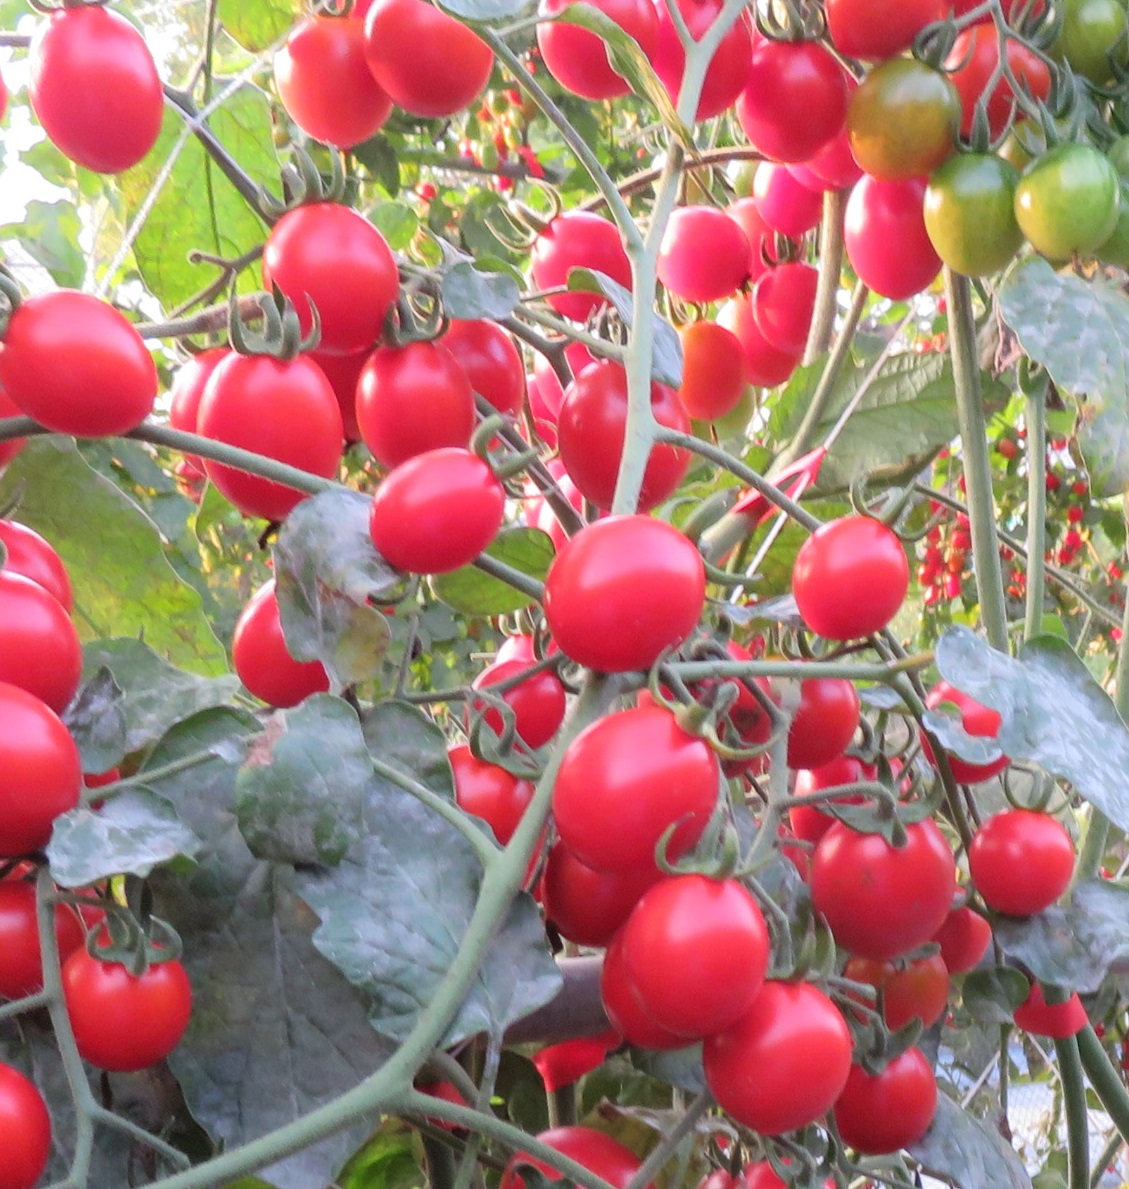green: (845, 65, 963, 182), (1017, 136, 1118, 266), (923, 148, 1017, 288), (1062, 1, 1129, 77)
orange: (674, 320, 750, 420)
red: (544, 707, 723, 877), (623, 857, 774, 1035), (248, 191, 406, 356), (539, 518, 708, 672), (1, 297, 175, 445), (687, 976, 849, 1134), (24, 3, 175, 173), (201, 351, 343, 521), (560, 360, 694, 511), (814, 808, 953, 952), (51, 924, 190, 1067), (223, 573, 357, 710), (348, 331, 477, 472), (365, 450, 503, 576), (367, 1, 505, 119), (533, 1, 663, 113), (522, 207, 646, 322), (266, 12, 374, 145), (791, 519, 908, 639), (743, 24, 844, 162), (1, 672, 76, 852), (837, 171, 932, 312), (652, 1, 753, 128), (829, 1044, 938, 1157), (969, 808, 1080, 919), (775, 644, 856, 782), (1, 582, 90, 709), (461, 660, 579, 748), (442, 317, 531, 433), (660, 207, 749, 309), (733, 148, 830, 238), (755, 255, 822, 355)
